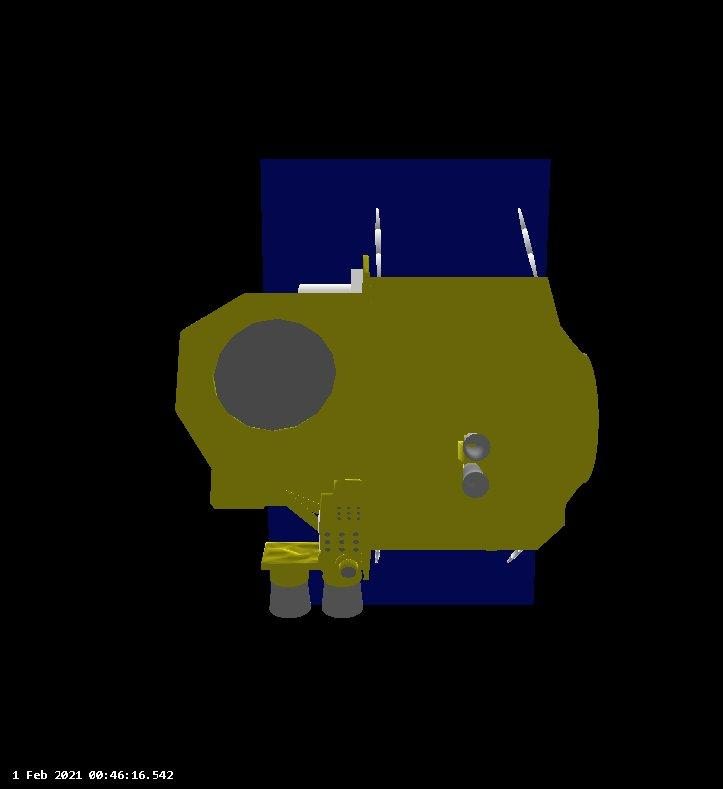body: (173, 272, 600, 555)
solar: (258, 154, 552, 295), (264, 501, 540, 608)
thruster: (266, 578, 315, 621), (319, 579, 366, 622), (460, 430, 491, 463), (460, 470, 490, 500)
